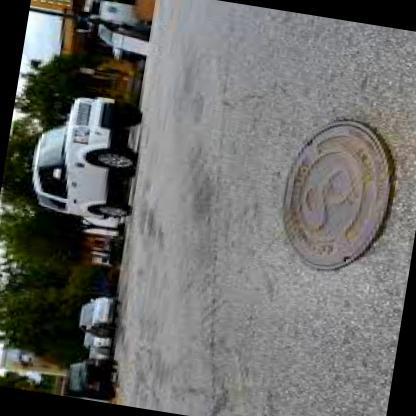manholes: (237, 64, 416, 303)
